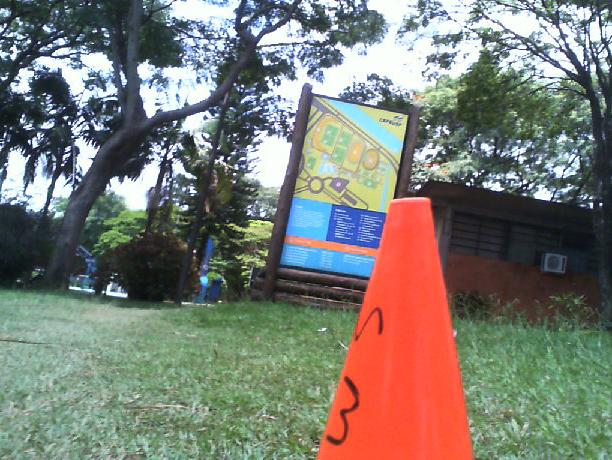0 cone: (315, 197, 472, 460)
